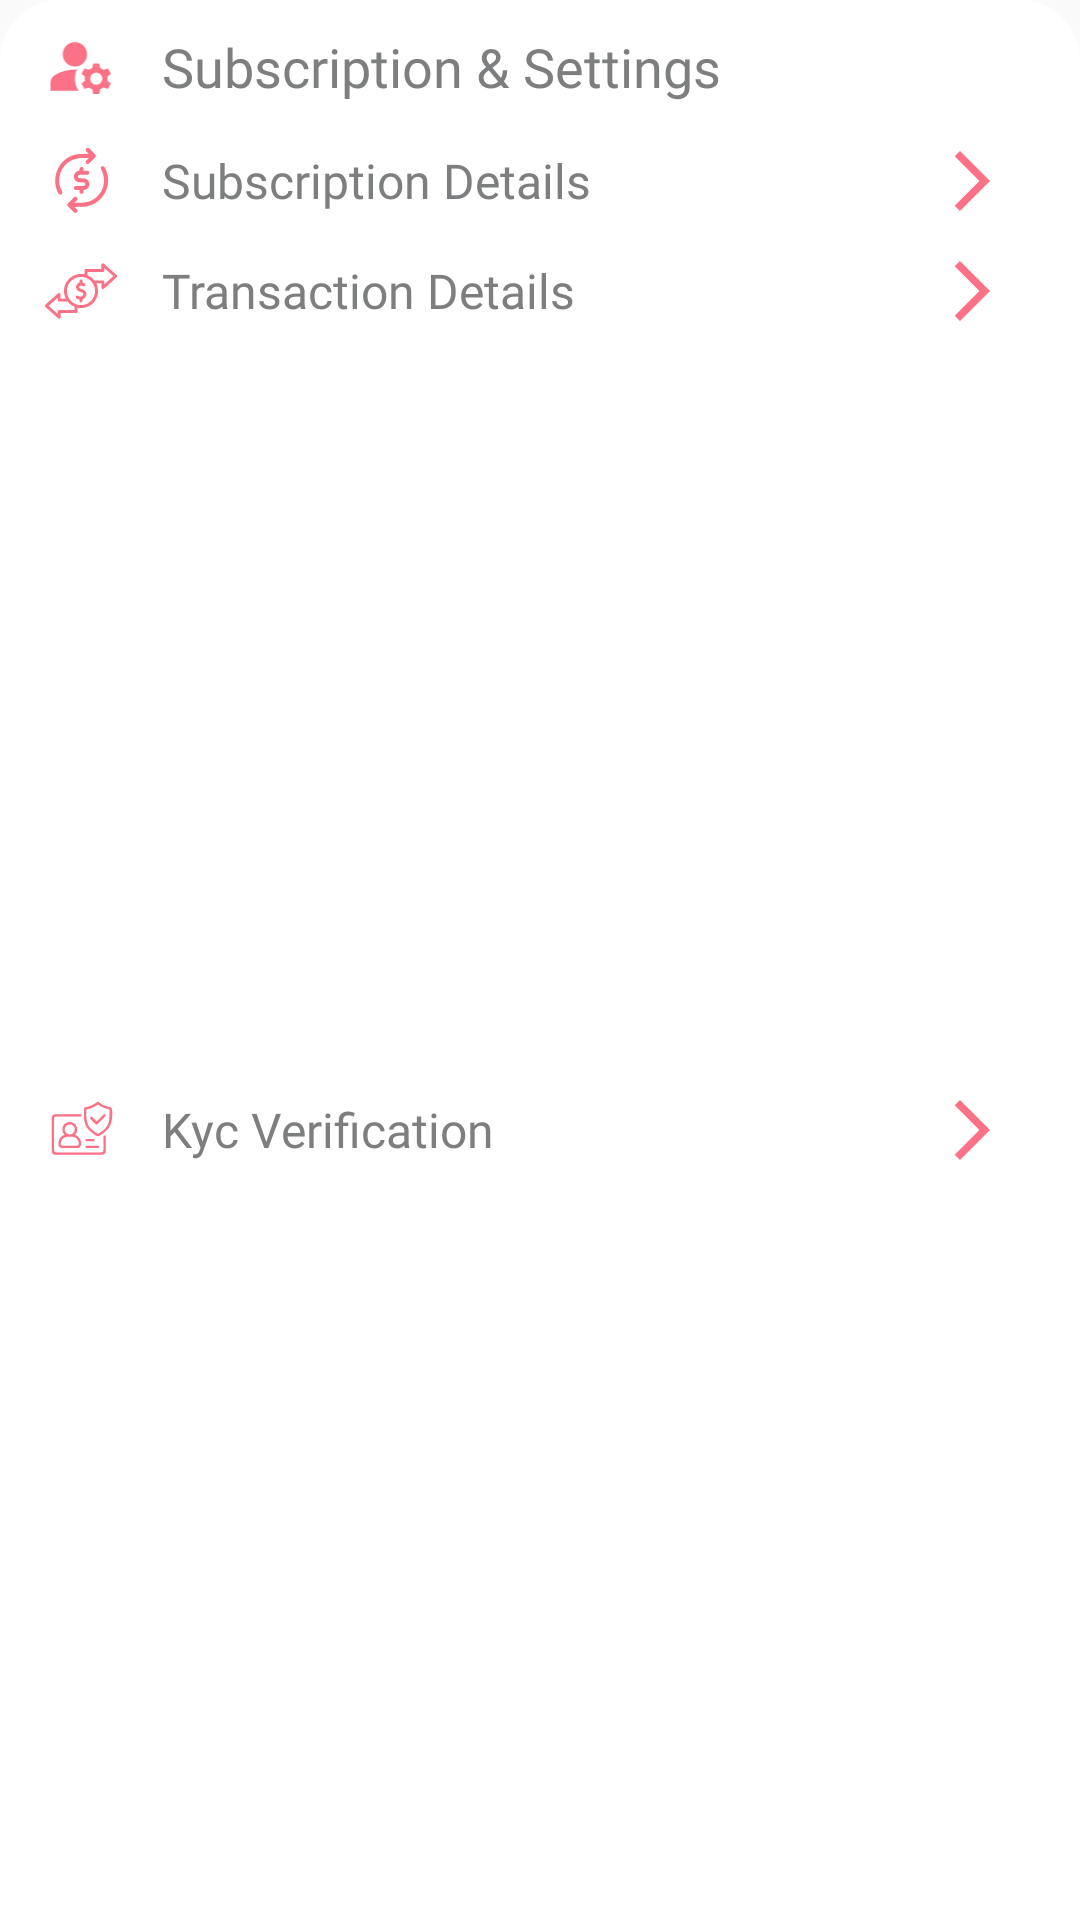

Icon click points for this 1080px x 1920px phone screenshot, format (x,y):
next: (972,181), (972,291), (972,1130)
